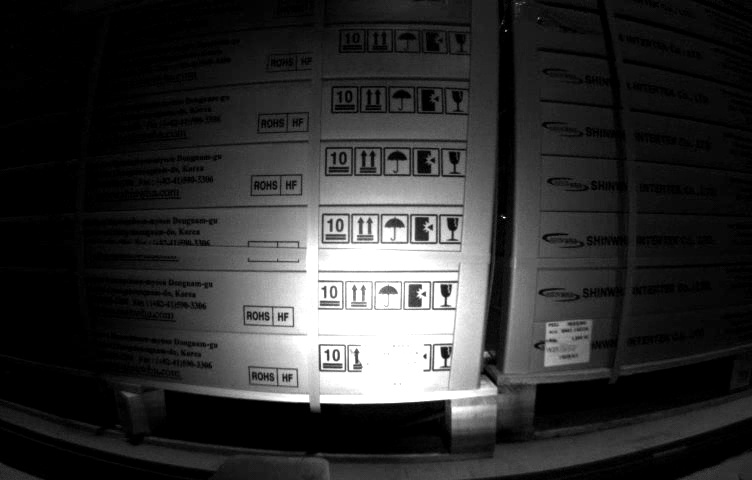True Barcode: (364, 334, 427, 387), (547, 319, 591, 366)
